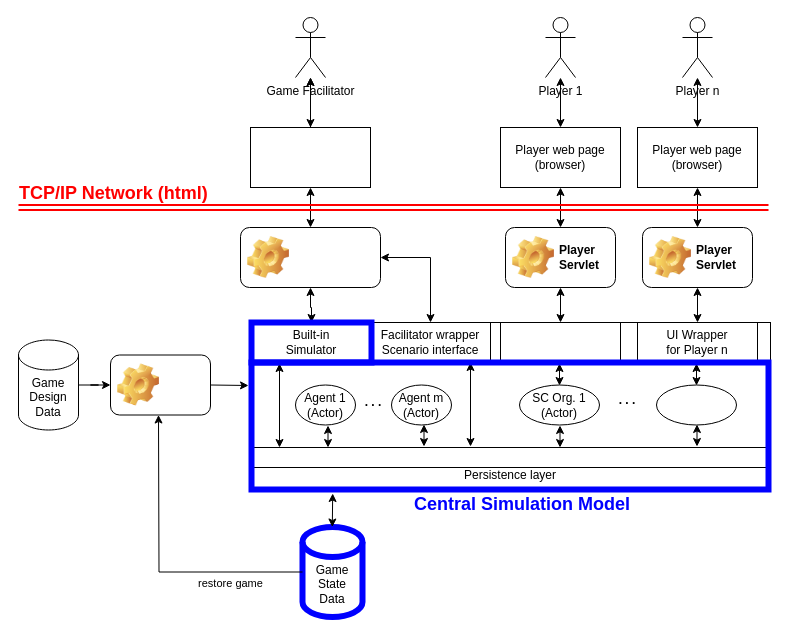
The diagram is 788 pixels wide and 637 high, and some of its shapes have lost their labels. Each missing label, with the box of its shape:
Facilitator Servlet: (240, 226, 380, 288)
Game Facilitator web page (browser): (250, 126, 370, 188)
Message passing layer: Actor-Actor messages: (250, 446, 770, 468)
Model Factory: (110, 354, 210, 415)
SC Org. n (Actor): (656, 384, 736, 425)
UI Wrapper for Player 1: (500, 322, 620, 362)
